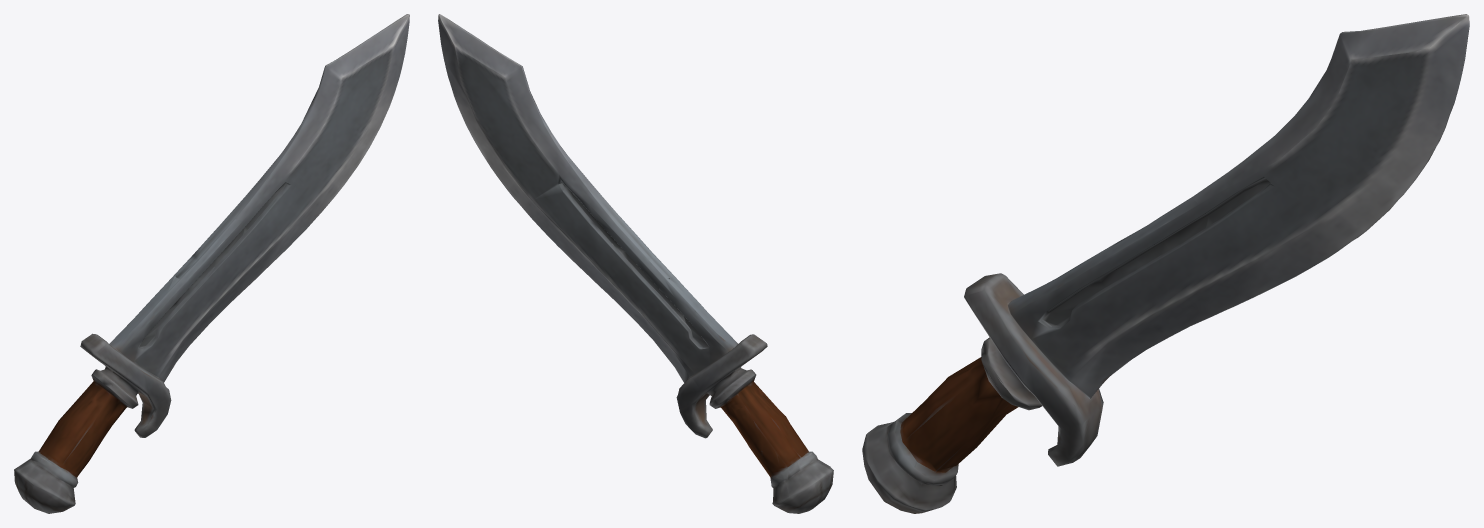
Rendered from w_falchion.glb.
3 views of the same model, side by side, from view 1: azimuth 30°, elevation 25°; view 2: azimuth 150°, elevation 25°; view 3: azimuth 330°, elevation 25° (orthographic). The views are drawn at different scales.
Bounding box in the file's own units: 0.9975 × 1 × 0.1523.
Materials: 1 (1 with a texture image).
